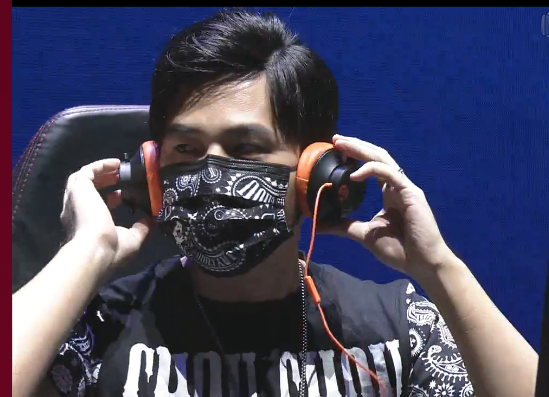face_mask: (154, 82, 298, 238)
